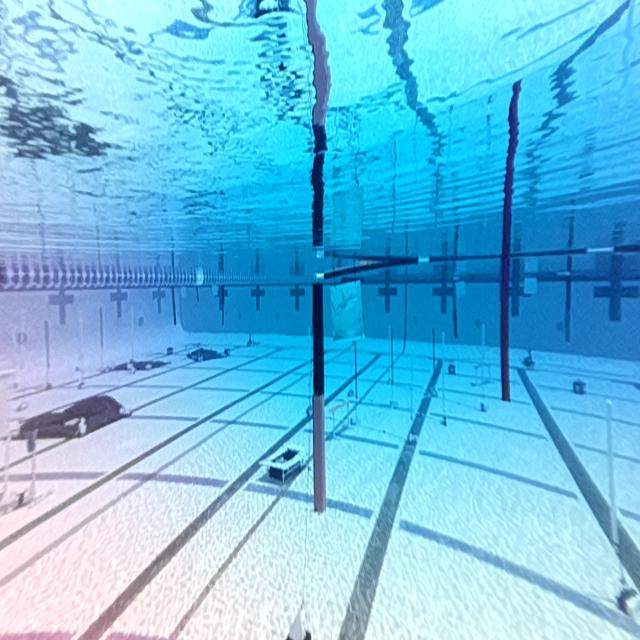round_nose: (331, 281, 362, 339)
